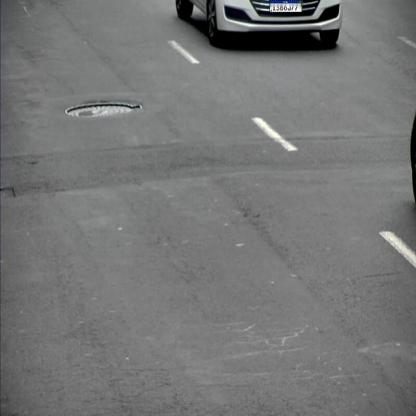PlacaM: (269, 0, 302, 12)
